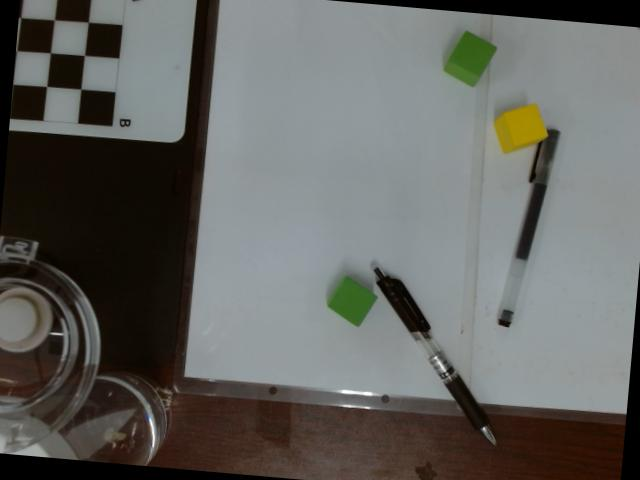PEN: (369, 259, 502, 451), (489, 125, 561, 326)
